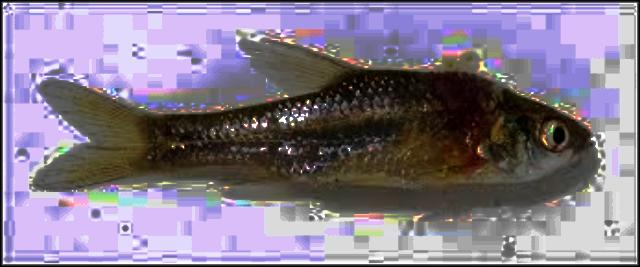Epizootic Ulcerative Syndrome -EUS-: (35, 41, 588, 188), (35, 60, 588, 188)
